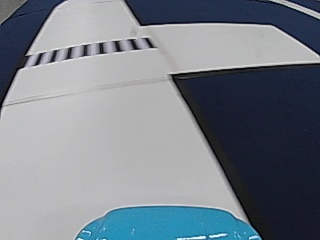CrossWalk: (29, 37, 150, 64)
